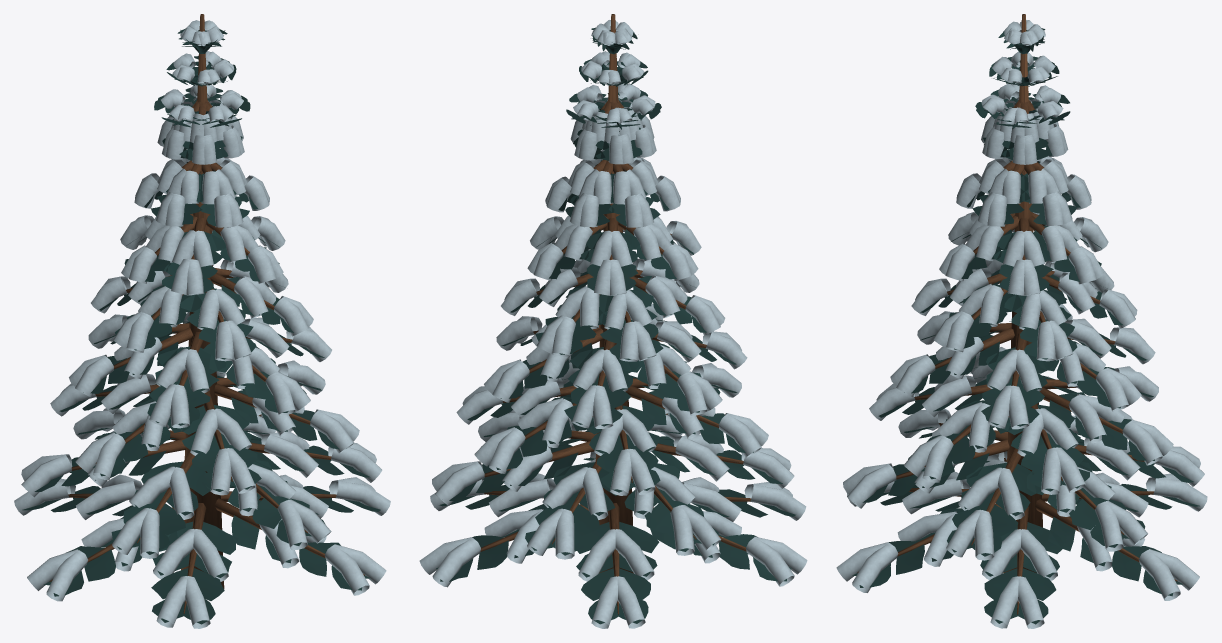
File: prop_fir_2.glb
The picture shows the model from 3 angles, left to right: view 1: azimuth 30°, elevation 25°; view 2: azimuth 150°, elevation 25°; view 3: azimuth 270°, elevation 25°; orthographic projection.
Parts seen in each view (by area): view 1: Soft_windblown_snow, Fir_needles, Old_oak; view 2: Soft_windblown_snow, Fir_needles, Old_oak; view 3: Soft_windblown_snow, Fir_needles, Old_oak.
Boxes of the visible parts, x1,y1,x2,y2 form: Soft_windblown_snow: (14, 20, 390, 628); Fir_needles: (22, 28, 380, 624); Old_oak: (49, 14, 364, 613); Soft_windblown_snow: (419, 20, 807, 628); Fir_needles: (436, 27, 795, 624); Old_oak: (480, 14, 751, 614); Soft_windblown_snow: (836, 20, 1207, 628); Fir_needles: (852, 28, 1199, 624); Old_oak: (857, 14, 1177, 614).
Size of the model in its own units: 2.97 by 4.6 by 2.7.
3 materials, 3 textured.
